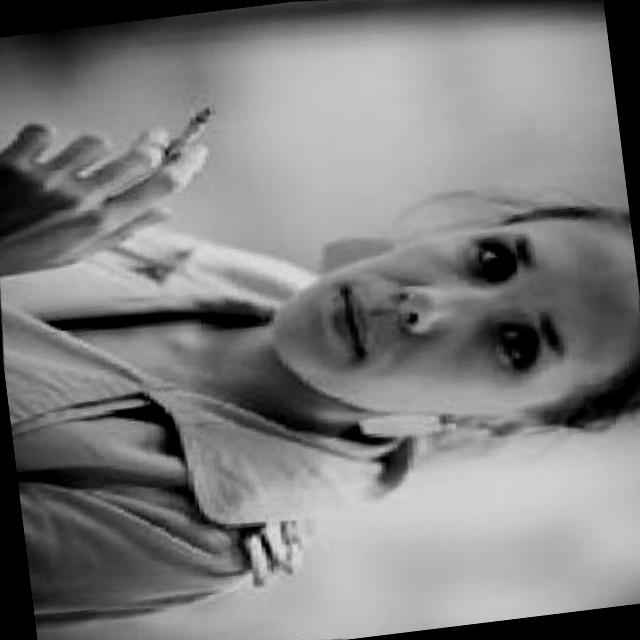cigarette: (156, 101, 218, 164)
